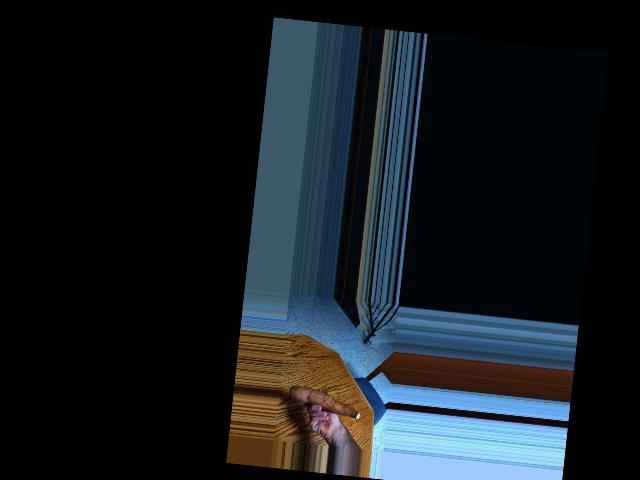sweet_potato: (289, 383, 363, 422)
